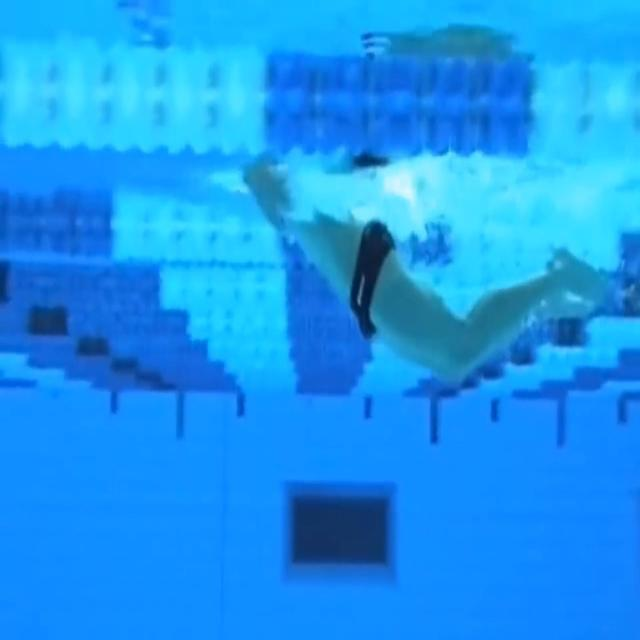Swimming: (241, 156, 614, 386)
